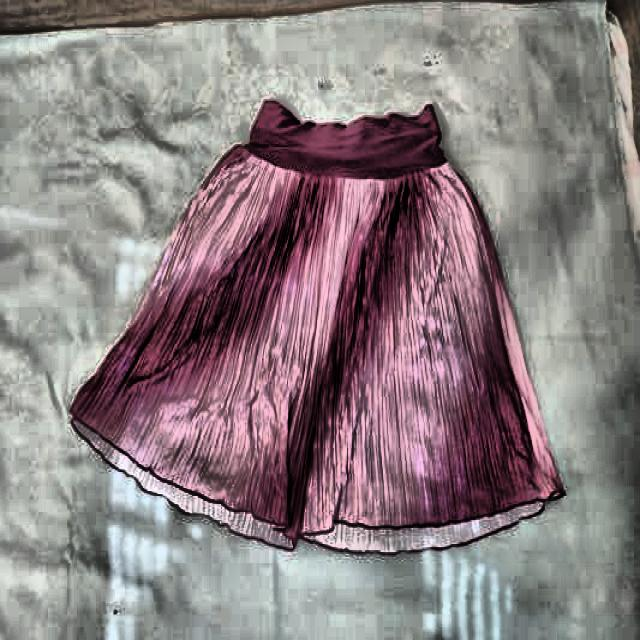clothes: (66, 94, 573, 546)
